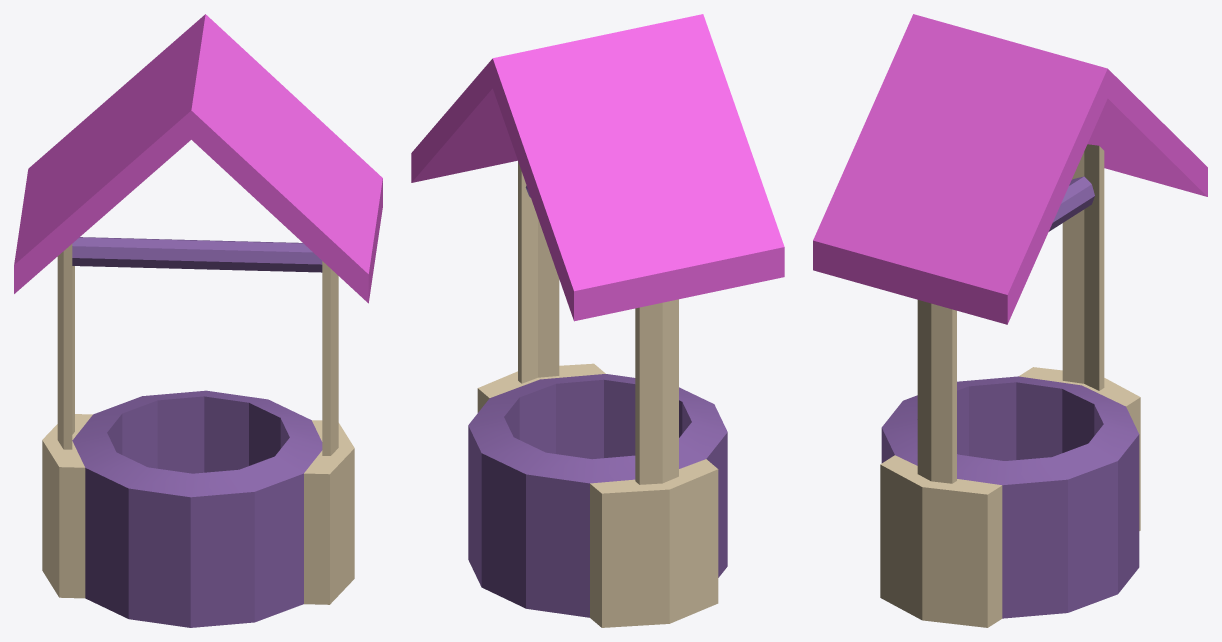
The model's file is Asset_RessRorest_Well.fbx.
The picture shows the model from 3 angles, left to right: view 1: azimuth 30°, elevation 25°; view 2: azimuth 150°, elevation 25°; view 3: azimuth 270°, elevation 25°; orthographic projection. The views are drawn at different scales.
Visible parts, largest first — view 1: structure_puit1; view 2: structure_puit1; view 3: structure_puit1.
Part boxes in pixels (box(x1,y1,x2,y2)): structure_puit1: box(14, 14, 382, 627); structure_puit1: box(411, 14, 784, 627); structure_puit1: box(813, 14, 1207, 627).
Size of the model in its own units: 54.22 by 73.81 by 49.66.
